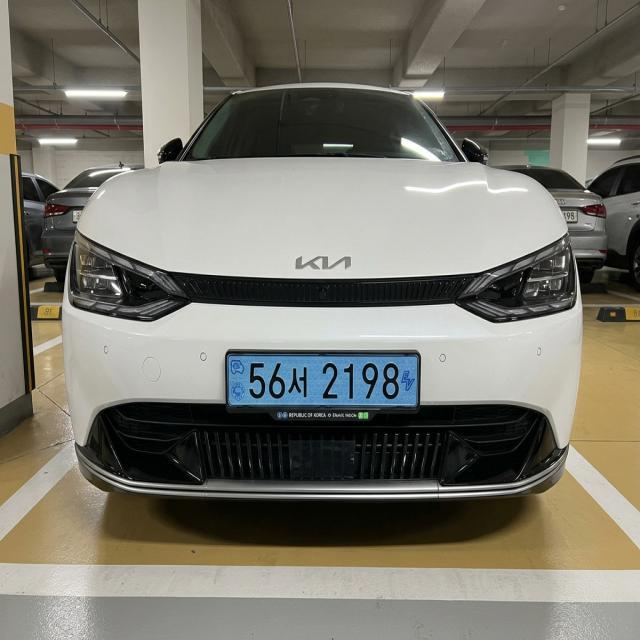car: (212, 343, 436, 432)
carev: (225, 350, 248, 416), (397, 349, 419, 404)
